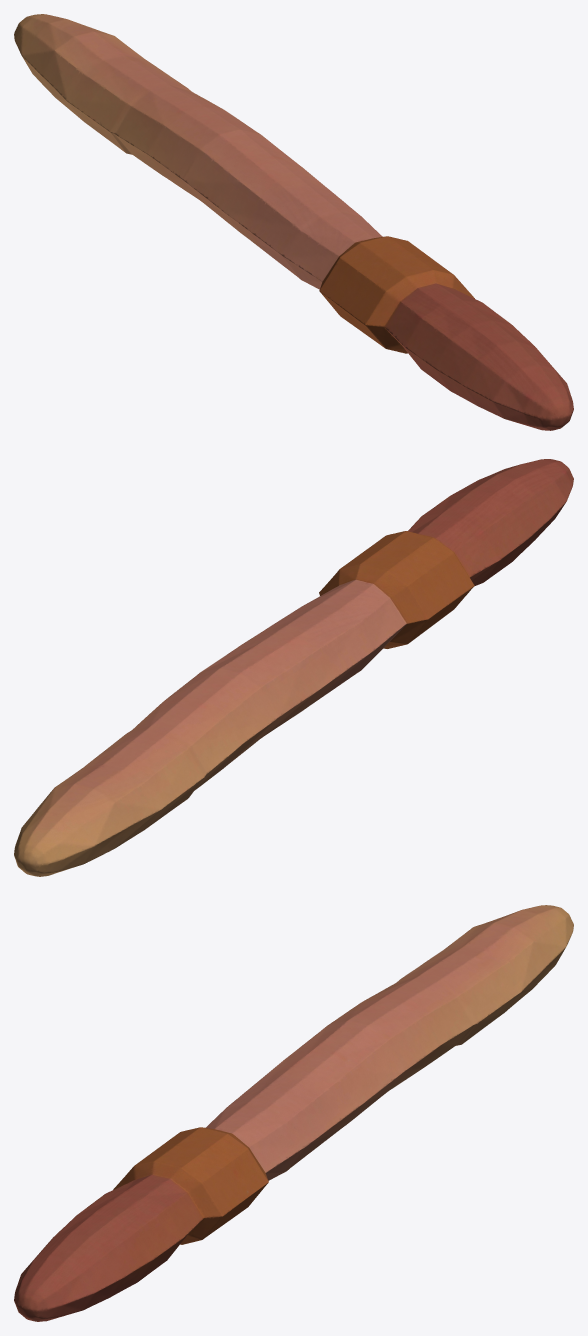
File: Sworm.fbx
3 renders of one model, top to bottom at view 1: azimuth 30°, elevation 25°; view 2: azimuth 150°, elevation 25°; view 3: azimuth 330°, elevation 25°, orthographic.
Visible parts, largest first — view 1: tripo_node_ee6d918e; view 2: tripo_node_ee6d918e; view 3: tripo_node_ee6d918e.
Part boxes in pixels (box(x1,y1,x2,y2)): tripo_node_ee6d918e: box(14, 14, 573, 430); tripo_node_ee6d918e: box(14, 459, 573, 876); tripo_node_ee6d918e: box(14, 905, 573, 1321).
Bounding box in the file's own units: 0.1182 × 0.0826 × 0.9999.
1 material, 1 textured.
